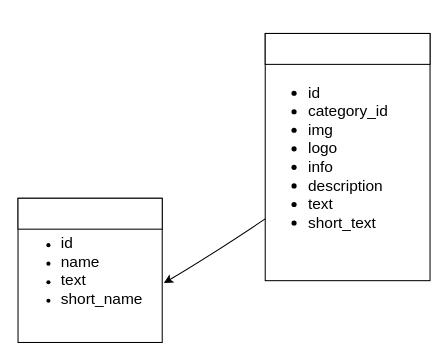
Image size: 448x361. Some labels were removed from this diagram. Here are the shapes that lost their labels. From the top down, the centre of each, then its label:
At (347,48): "Product".
At (89,213): "Category".
